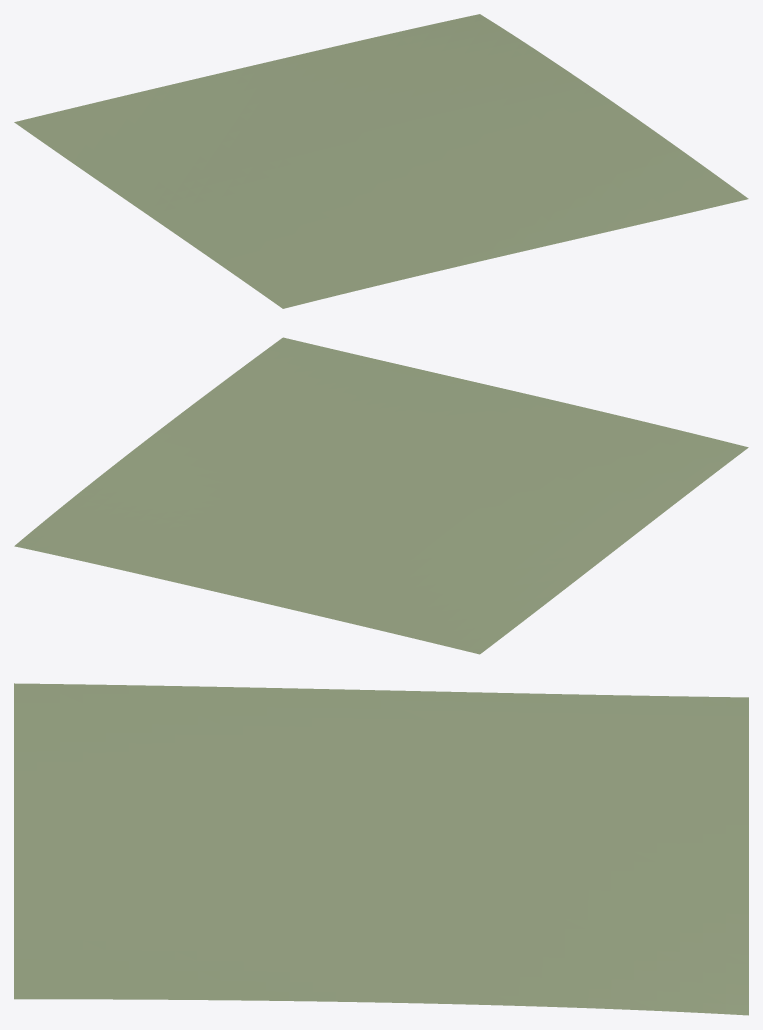
File: expanse-10-14.glb
3 renders of one model, top to bottom at view 1: azimuth 30°, elevation 25°; view 2: azimuth 150°, elevation 25°; view 3: azimuth 270°, elevation 25°, orthographic. The views are drawn at different scales.
Visible parts, largest first — view 1: expanse-10-14; view 2: expanse-10-14; view 3: expanse-10-14.
Part boxes in pixels (x1=…): expanse-10-14: x1=14, y1=14, x2=748, y2=308; expanse-10-14: x1=14, y1=337, x2=748, y2=654; expanse-10-14: x1=14, y1=683, x2=748, y2=1015.
Bounding box in the file's own units: 256 × 8.34 × 256.
